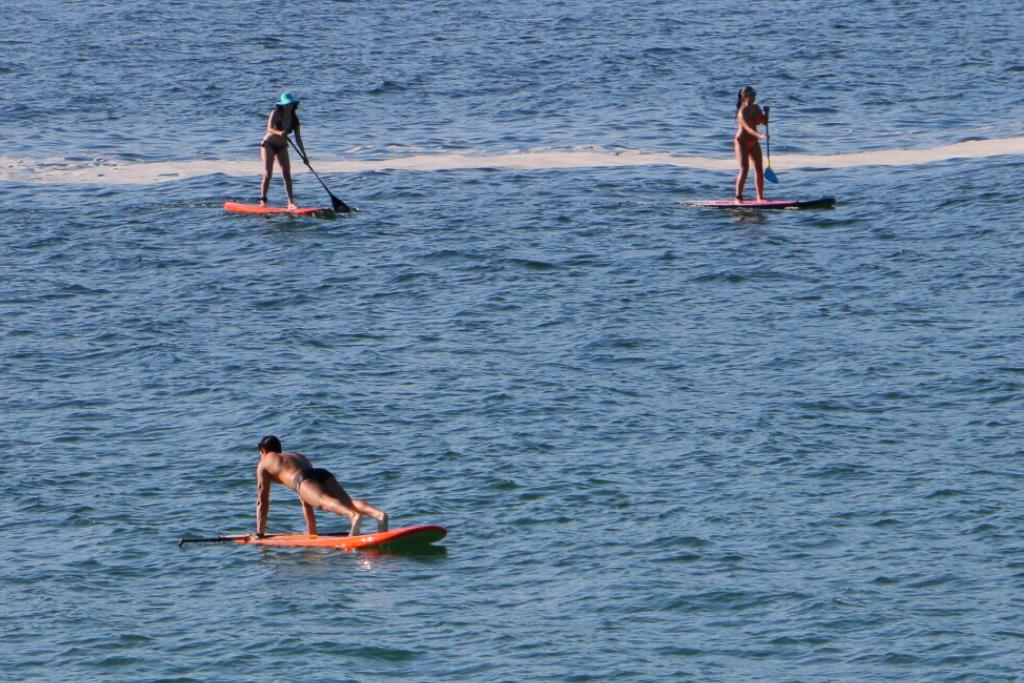Person: (259, 92, 309, 209), (733, 85, 771, 203)
